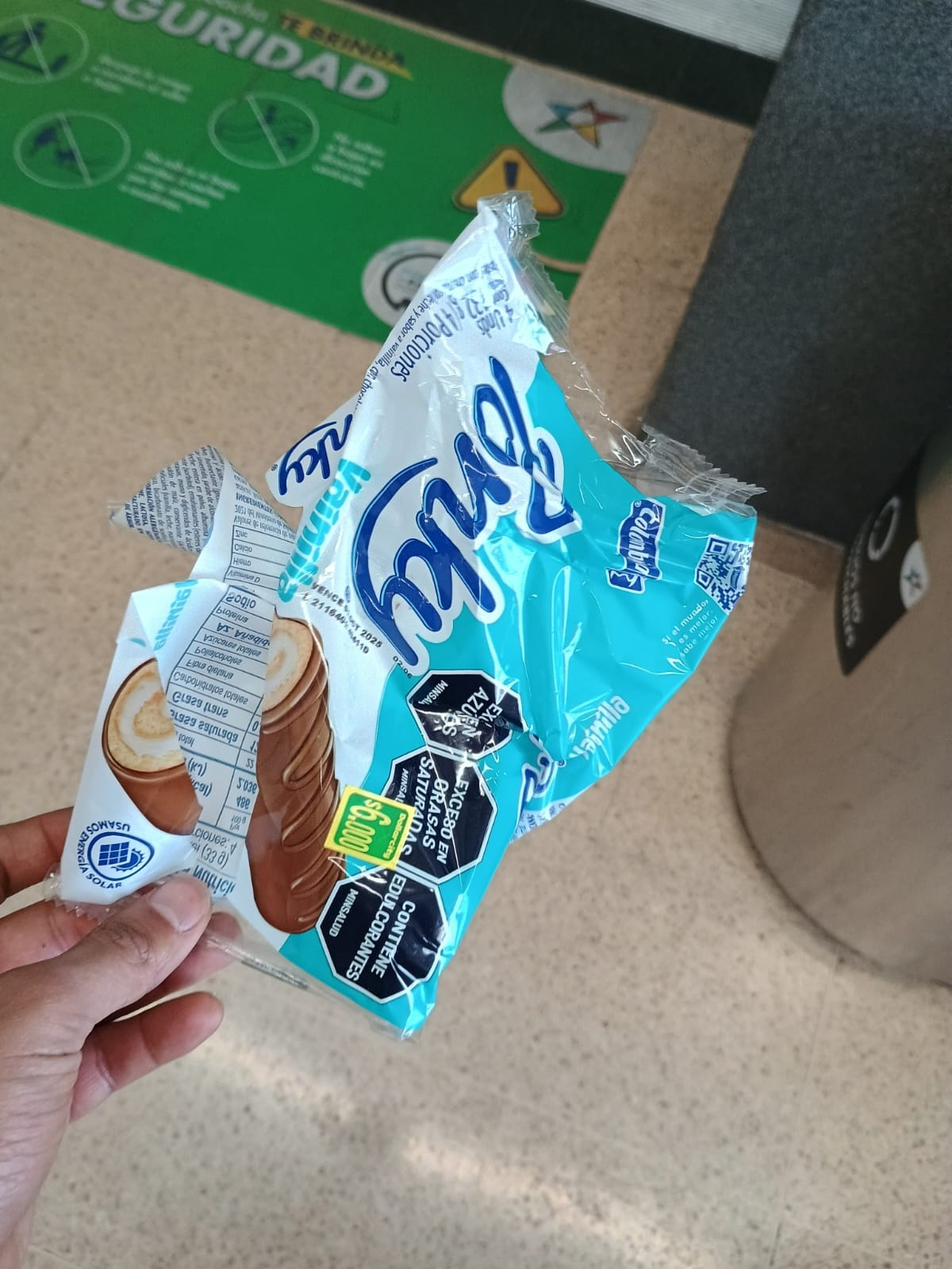Ordinario: (51, 189, 761, 1037)
